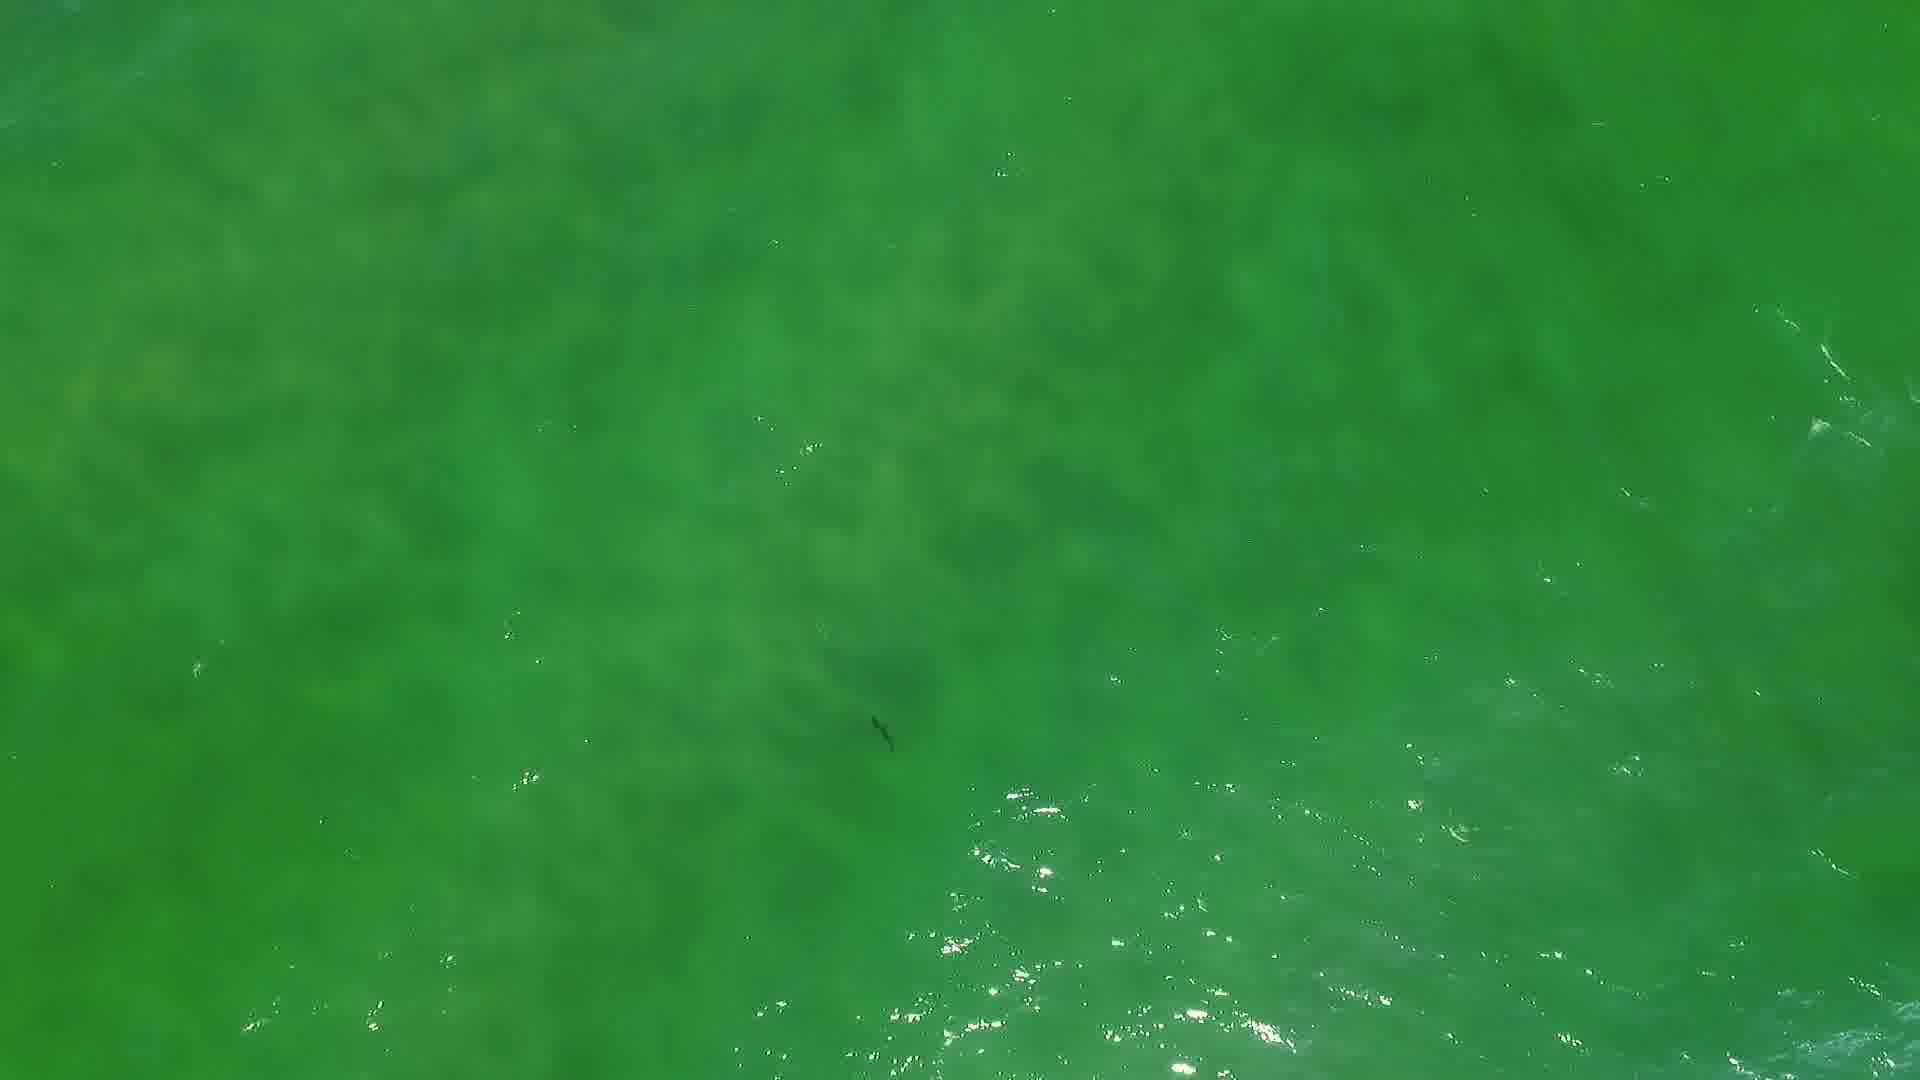shark: (866, 712, 899, 753)
